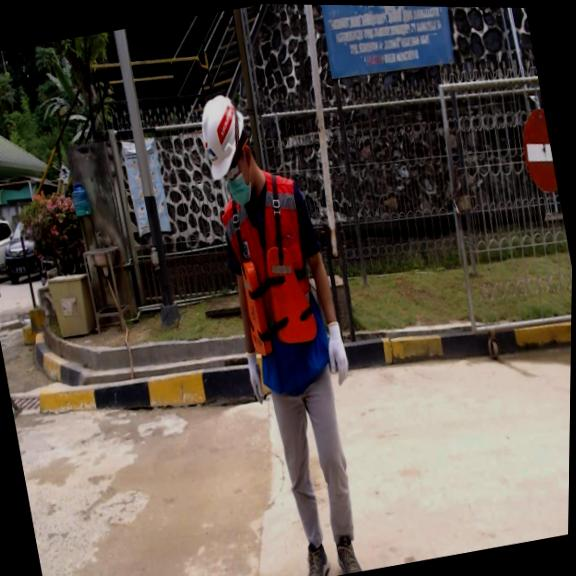safety_vest: (233, 238, 324, 359)
